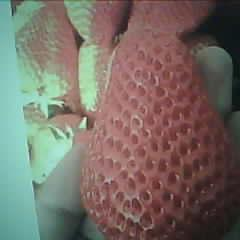straw-ripe: (82, 36, 240, 240)
